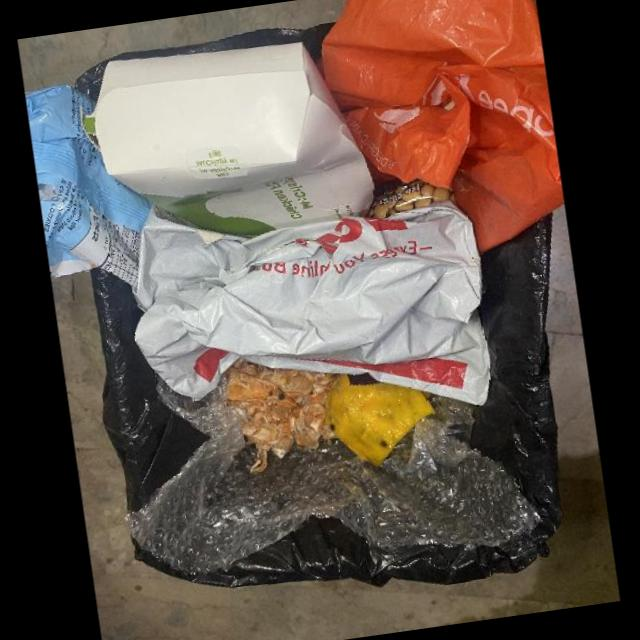bao_bi_thuc_pham: (25, 83, 152, 286), (369, 178, 453, 219)
thuc_an_thua: (224, 358, 340, 473)
tui_ni_long: (135, 204, 491, 404), (321, 0, 565, 254), (93, 41, 374, 236)
vo_trai_cay: (325, 373, 436, 467)
